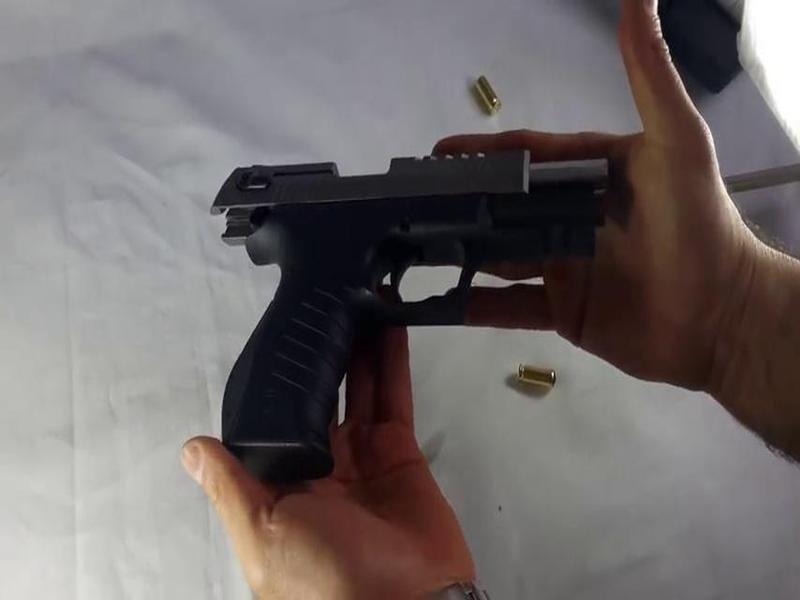Pistola: (190, 128, 626, 485)
